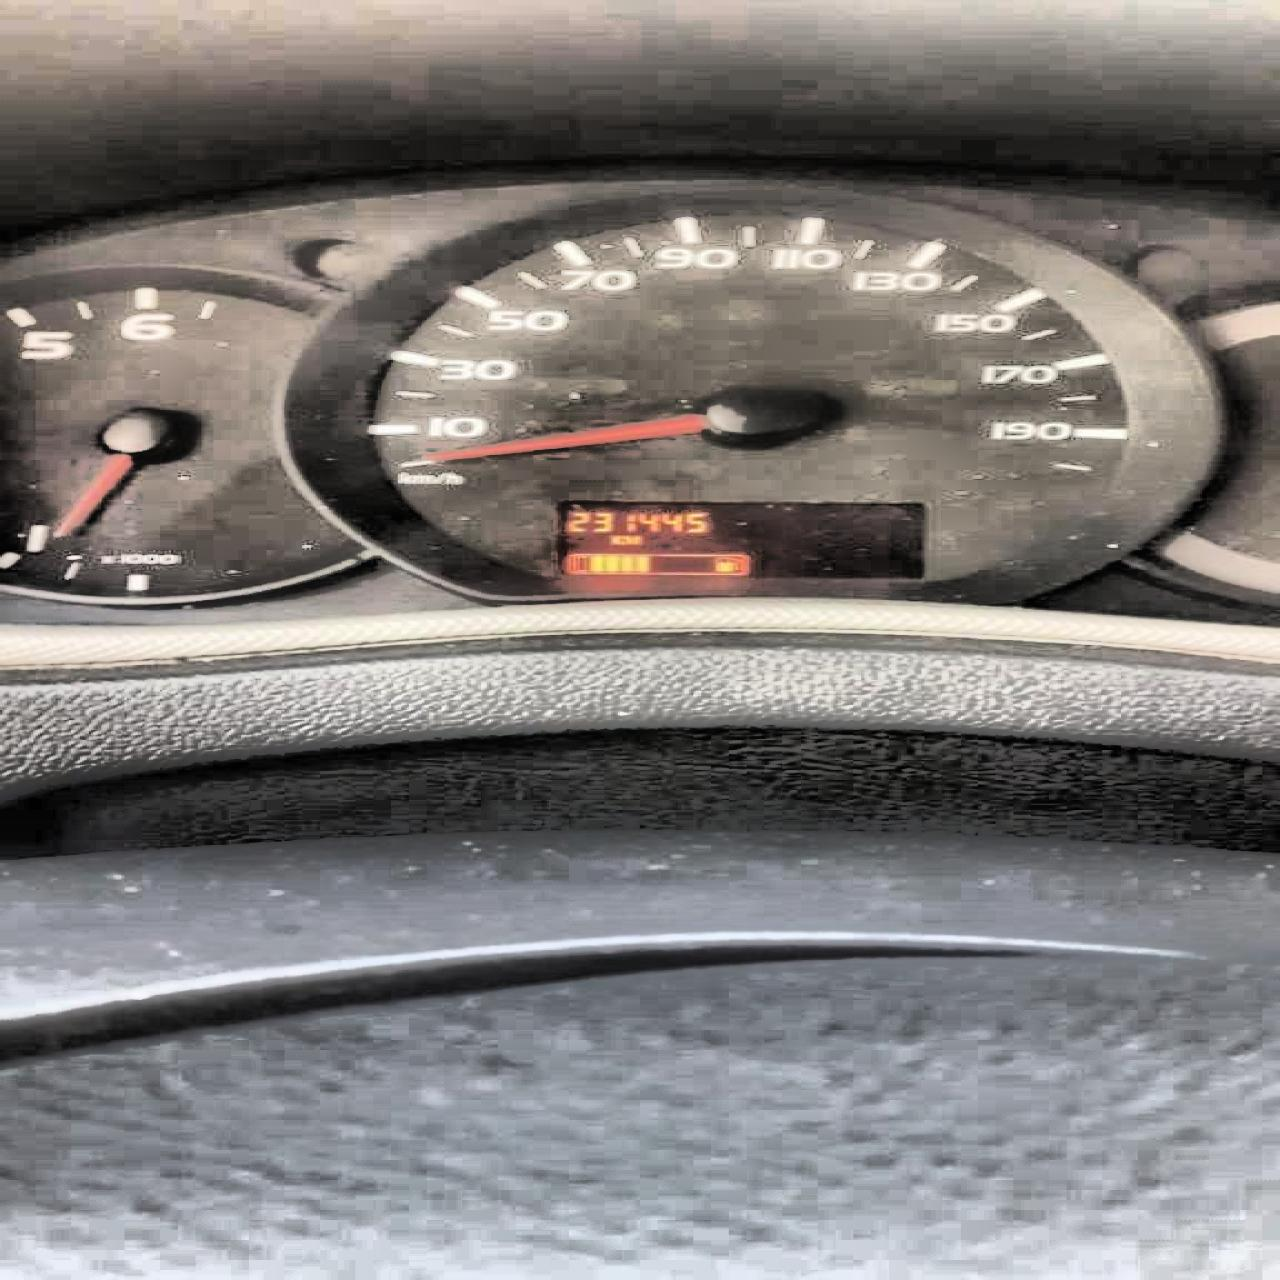1: (622, 511, 633, 533)
2: (564, 510, 588, 532)
3: (591, 511, 613, 531)
4: (658, 511, 682, 532), (635, 511, 658, 532)
5: (685, 510, 712, 532)
X: (625, 535, 642, 545), (608, 535, 625, 545)
odometer: (546, 497, 933, 581)
